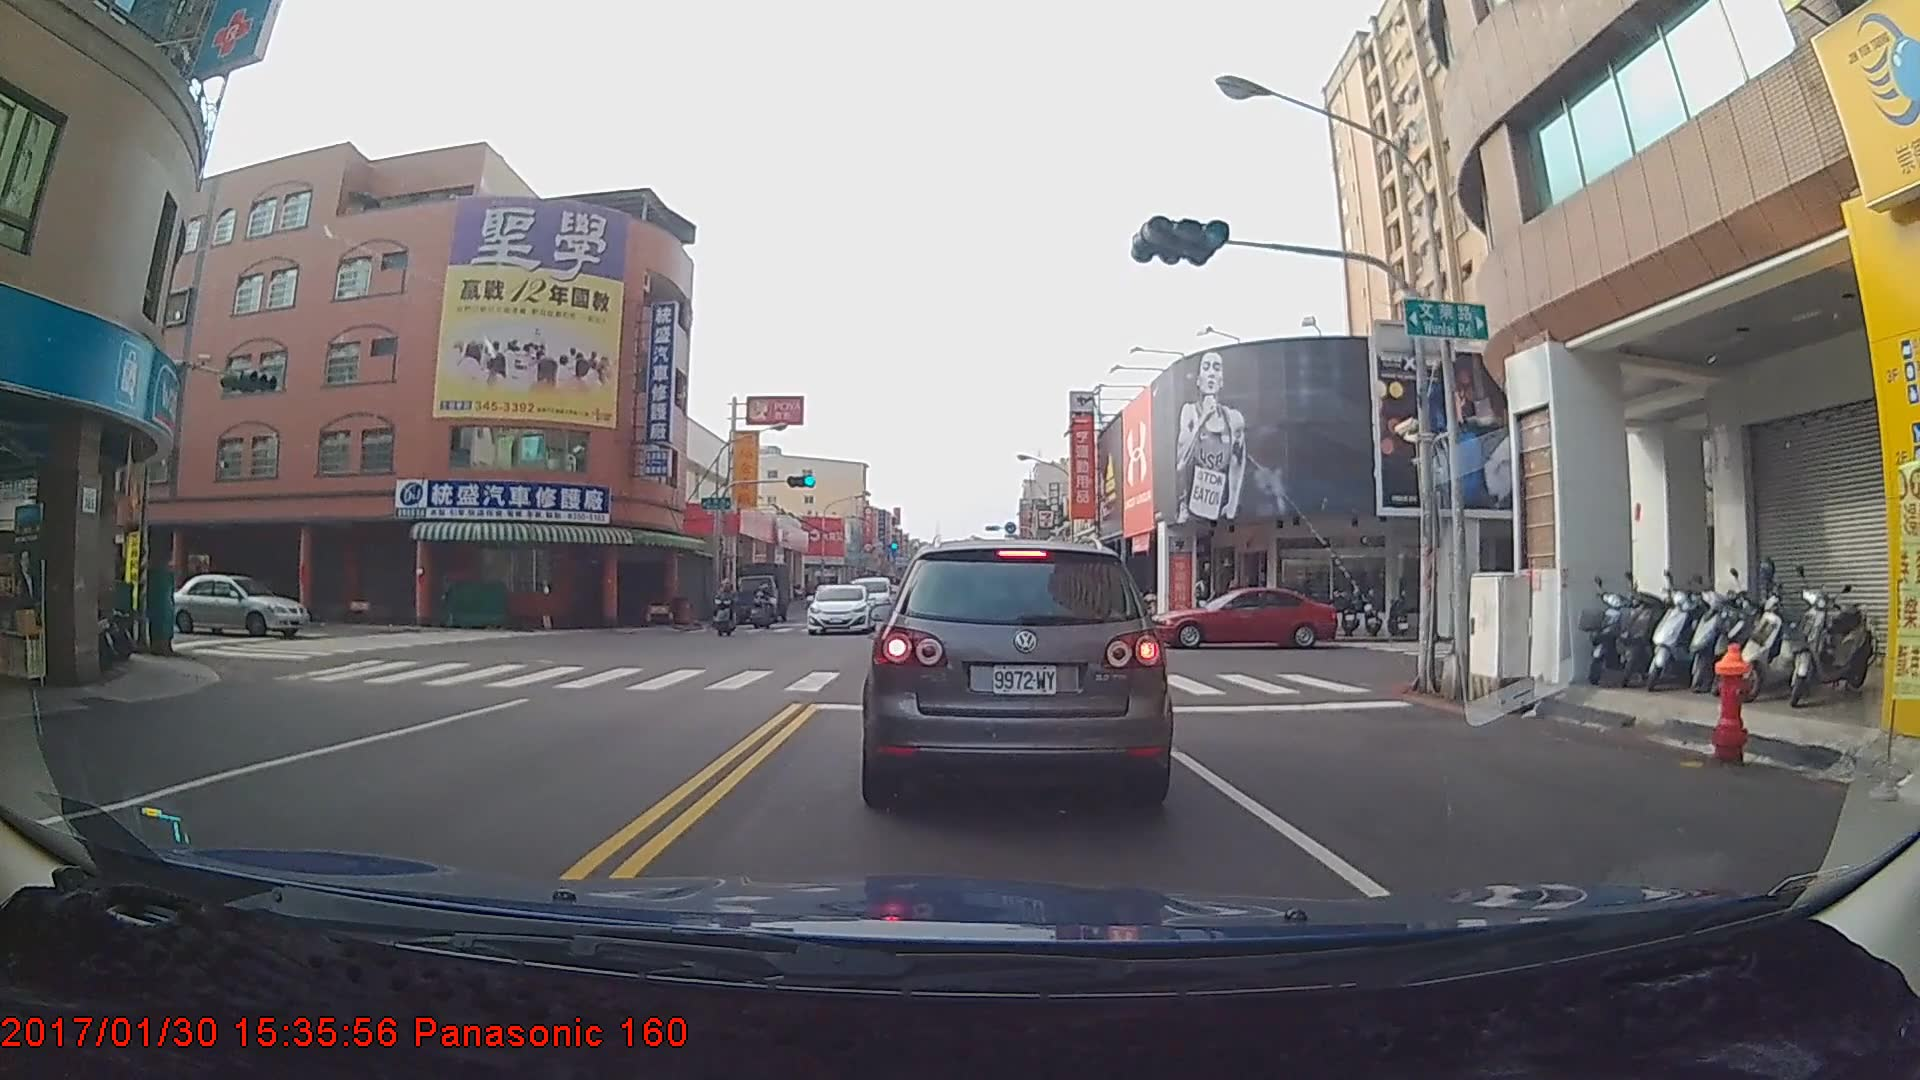rider: (746, 577, 782, 628), (710, 576, 737, 639)
vehicle: (870, 531, 1168, 806), (1147, 585, 1337, 651), (158, 568, 309, 635), (803, 583, 874, 635), (733, 559, 790, 622)
